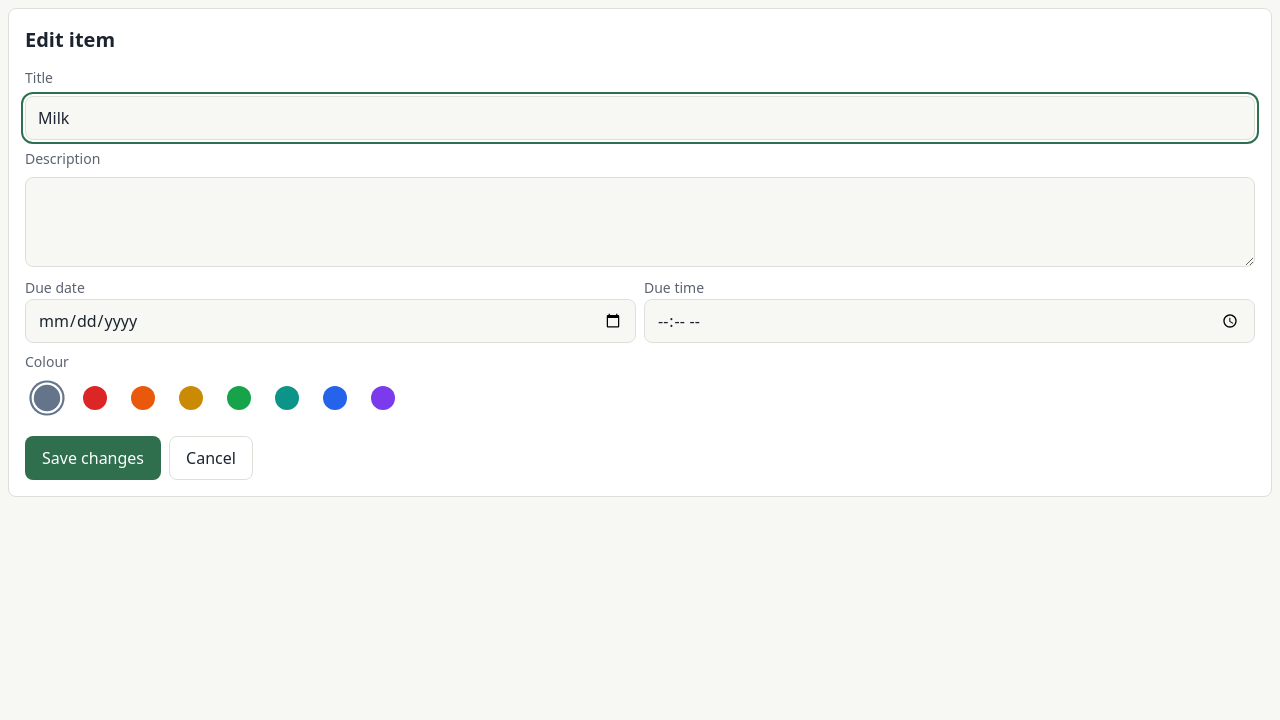
Scenario: discarding editor changes › Keep editing keeps the draft and returns focus to the title
This screenshot has width=1280, height=720.
Step 1. Type " shake" into the field labelled "Title" → (640, 118), box [25, 96, 1255, 140]
Then press Escape
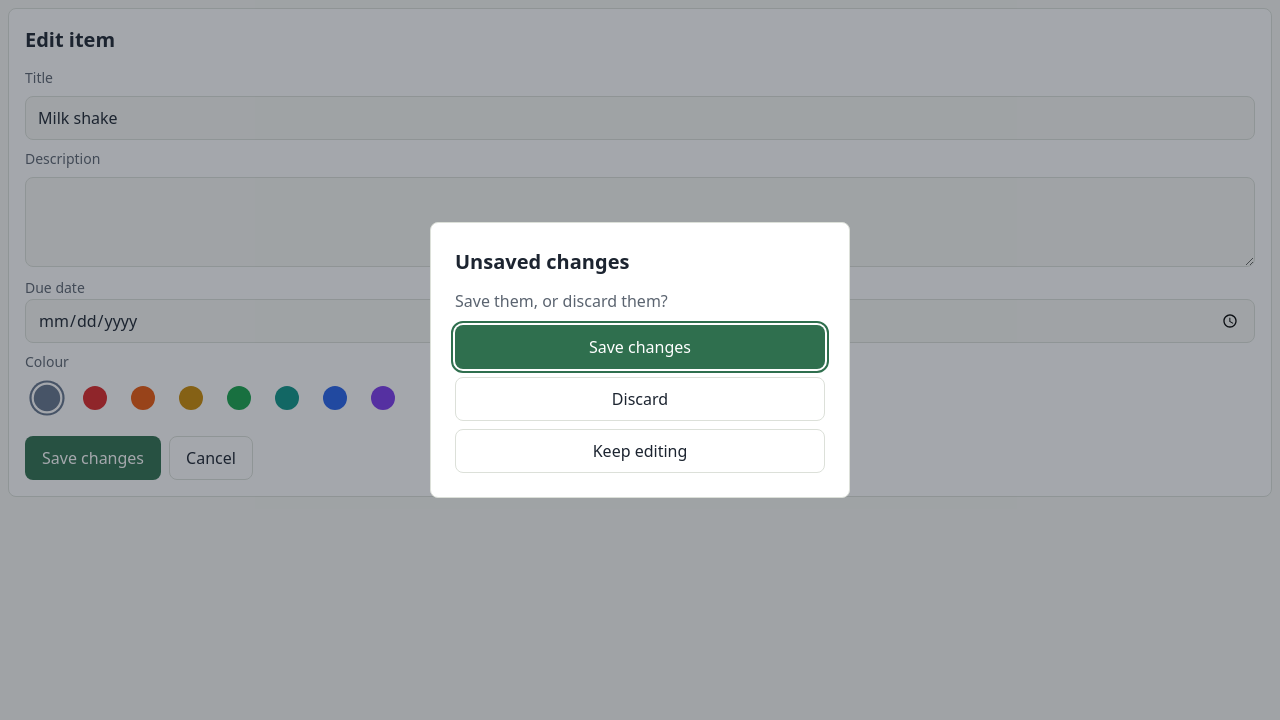
Step 2. Click the button "Keep editing" → (640, 451), box [455, 429, 825, 473]
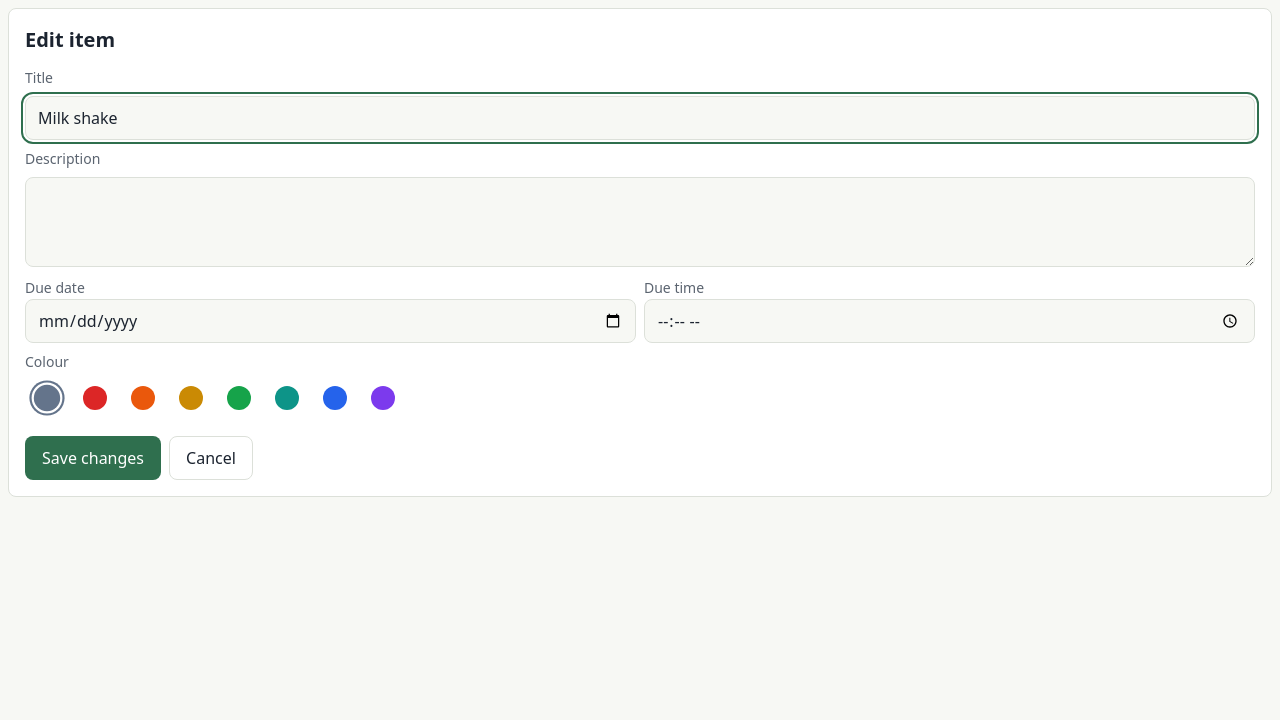
Check: the field labelled "Title" holds "Milk shake", box [25, 96, 1255, 140]
Check: the dialog is gone
